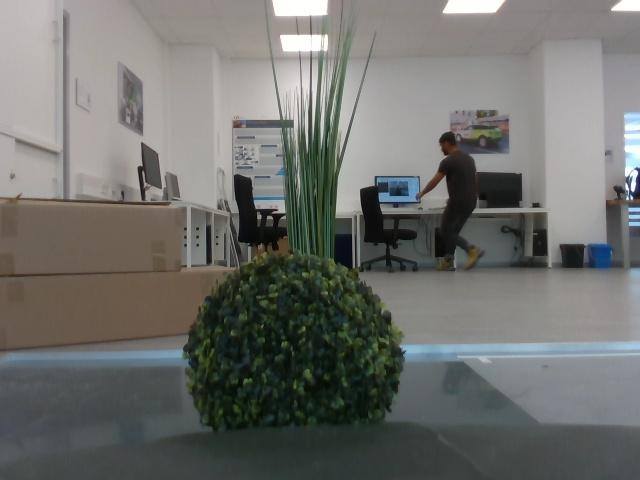potted plant: (178, 253, 403, 425), (265, 17, 378, 252)
